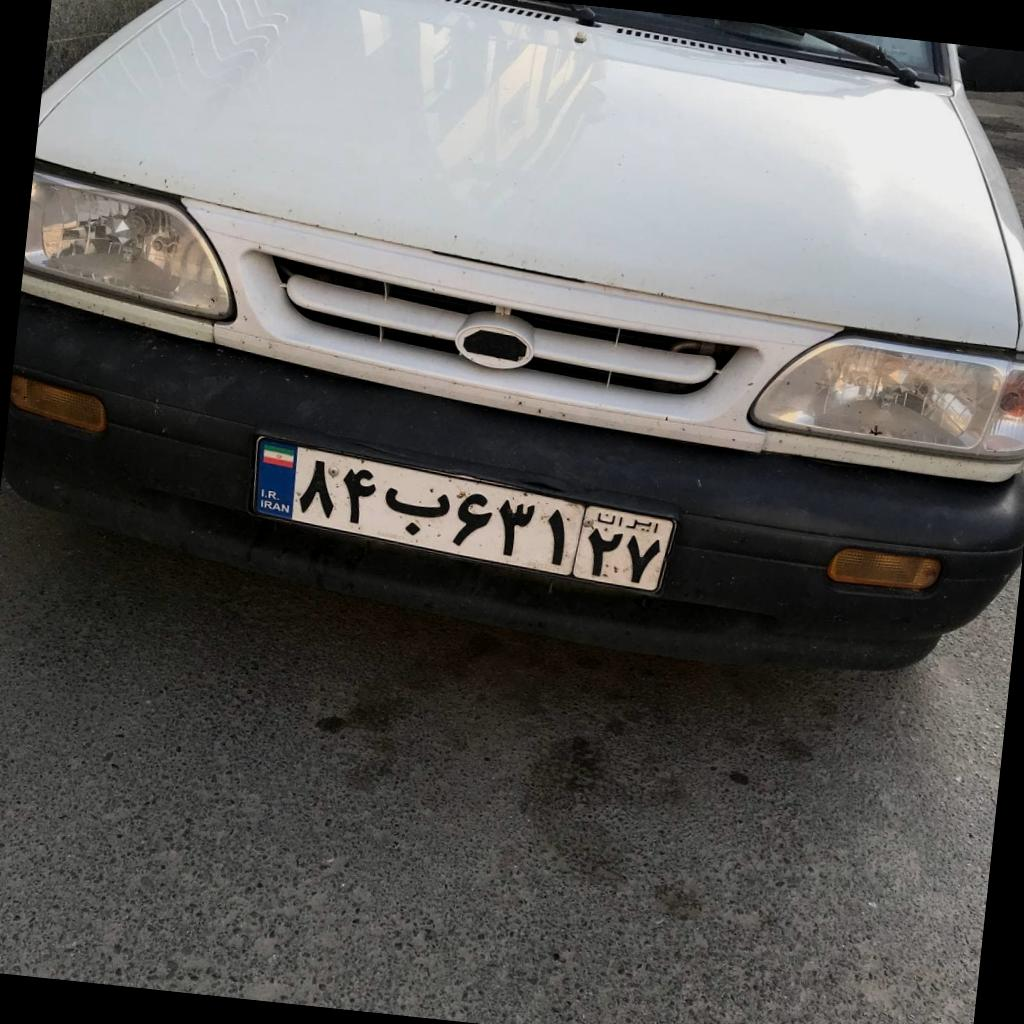Plates: (249, 436, 674, 590)
